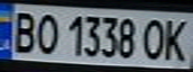1: (63, 11, 84, 56)
3: (81, 12, 103, 57), (100, 14, 121, 58)
8: (115, 15, 142, 61)
B: (6, 8, 39, 54)
K: (160, 16, 193, 63)
O: (139, 16, 172, 61), (30, 10, 60, 55)
